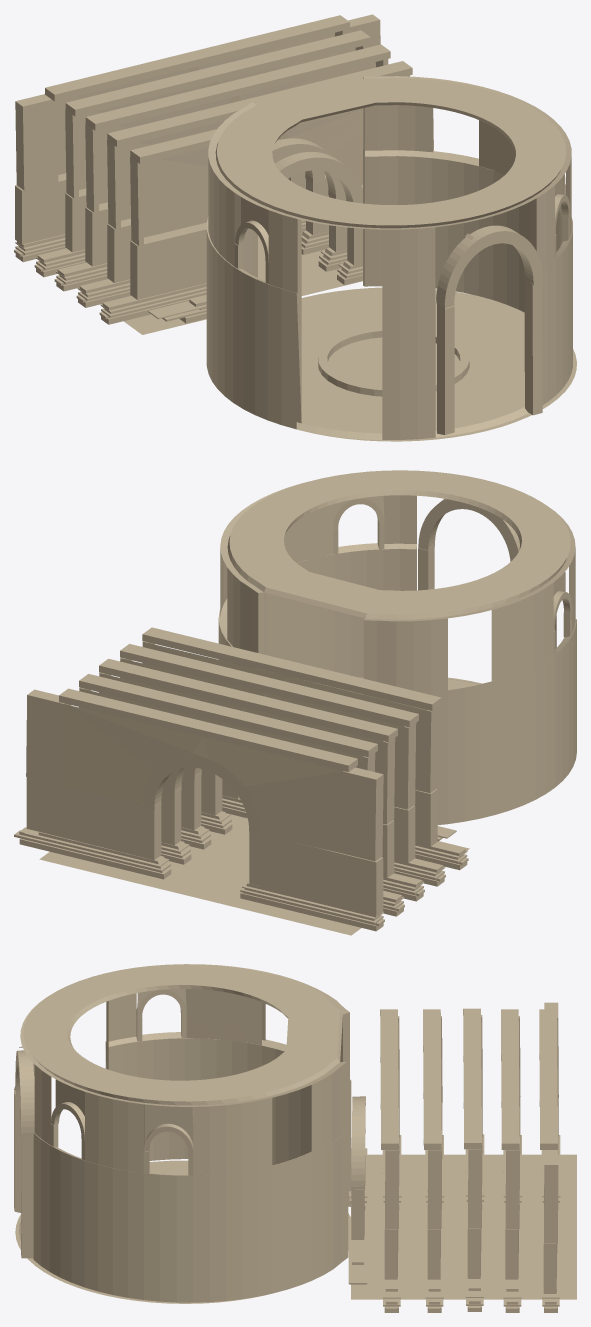
Rendered from dragon.glb.
3 renders of one model, top to bottom at view 1: azimuth 30°, elevation 25°; view 2: azimuth 150°, elevation 25°; view 3: azimuth 270°, elevation 25°, orthographic. The views are drawn at different scales.
Parts seen in each view (by area): view 1: Cube.084, Circle.005, floor, Cube.071, Cube.005, Cube.033, Cube.020, Cube.058, Cube.073, floor2, Circle.002, Circle.004 (+2 smaller); view 2: Cube.005, Cube.084, Circle.005, Cube.058, Cube.071, Cube.033, Cube.020, floor2, Cube.073, Cube.011, Cube.047, Cube.012; view 3: Circle.005, Cube.084, floor2, Cube.005, Cube.033, Cube.071, Cube.020, Cube.058, Cube.073, floor, Circle.004, Cube.009 (+6 smaller).
Boxes of the visible parts, box(x1,y1,x2,y2) form: Cube.084: box(208, 76, 571, 303); Circle.005: box(206, 149, 572, 439); floor: box(299, 287, 576, 441); Cube.071: box(130, 108, 433, 299); Cube.005: box(15, 14, 380, 244); Cube.033: box(85, 44, 390, 266); Cube.020: box(65, 30, 370, 252); Cube.058: box(107, 61, 412, 282); Cube.073: box(436, 225, 543, 434); floor2: box(101, 235, 362, 334); Circle.002: box(318, 327, 469, 396); Circle.004: box(275, 152, 362, 203); Cube.005: box(26, 688, 383, 914); Cube.084: box(220, 470, 575, 692); Circle.005: box(218, 543, 576, 824); Cube.058: box(120, 644, 418, 862); Cube.071: box(142, 627, 441, 846); Cube.033: box(99, 658, 397, 877); Cube.020: box(79, 674, 377, 845); floor2: box(39, 813, 469, 935); Cube.073: box(418, 499, 519, 590); Cube.011: box(19, 838, 171, 879); Cube.047: box(240, 892, 383, 931); Cube.012: box(16, 833, 170, 872); Circle.005: box(19, 1032, 351, 1302); Cube.084: box(19, 964, 349, 1175); floor2: box(351, 1154, 576, 1299); Cube.005: box(539, 1002, 558, 1293); Cube.033: box(463, 1008, 482, 1278); Cube.071: box(380, 1009, 399, 1279); Cube.020: box(501, 1009, 520, 1279); Cube.058: box(423, 1009, 442, 1279); Cube.073: box(14, 1050, 34, 1258); floor: box(15, 1160, 350, 1303); Circle.004: box(351, 1096, 365, 1192); Cube.009: box(351, 1189, 364, 1239).
Size of the model in its own units: 21.05 by 11.46 by 29.52.
